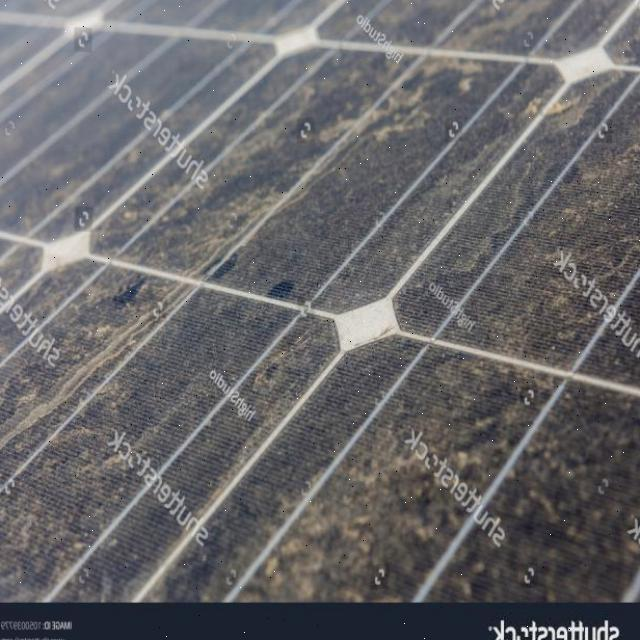Anomaly Solar Panel: (0, 1, 640, 602)
Surface Contaminant: (0, 1, 640, 604)
